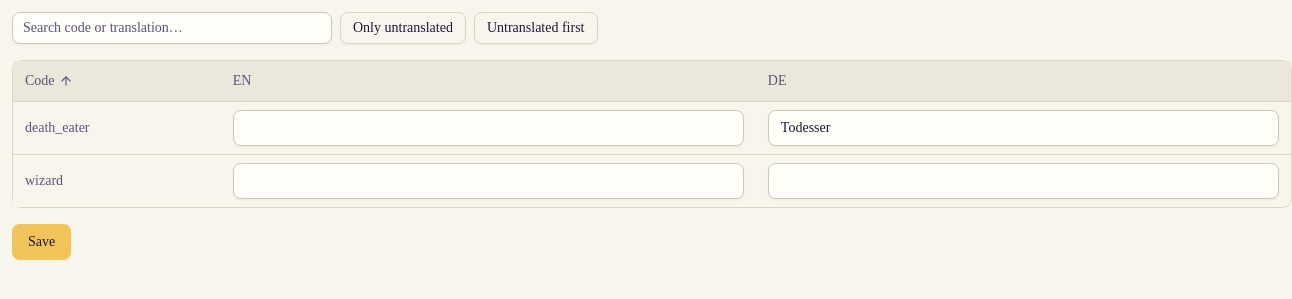
Scenario: SubTypeTranslationsForm › shows an inline error when saving fails
Click the button "Save" at [42, 242], box [12, 224, 71, 260]
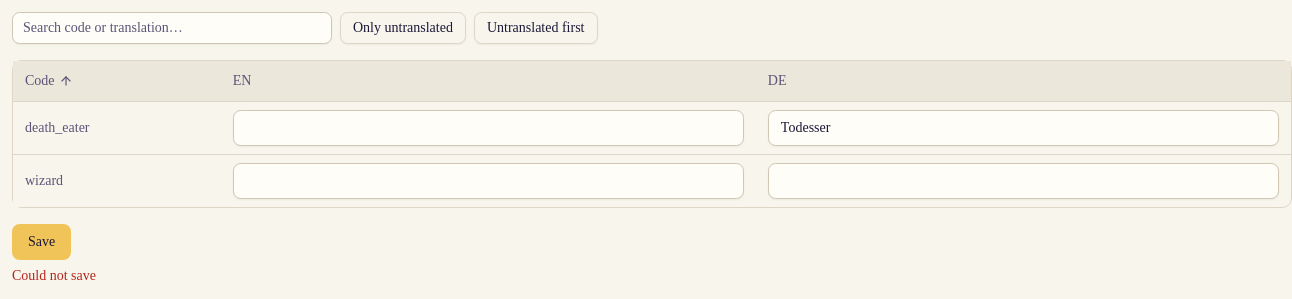
Expected: the text "Could not save" is shown, [12, 268, 96, 282]
